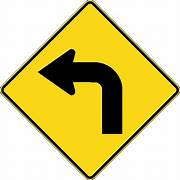left: (1, 1, 180, 179)
